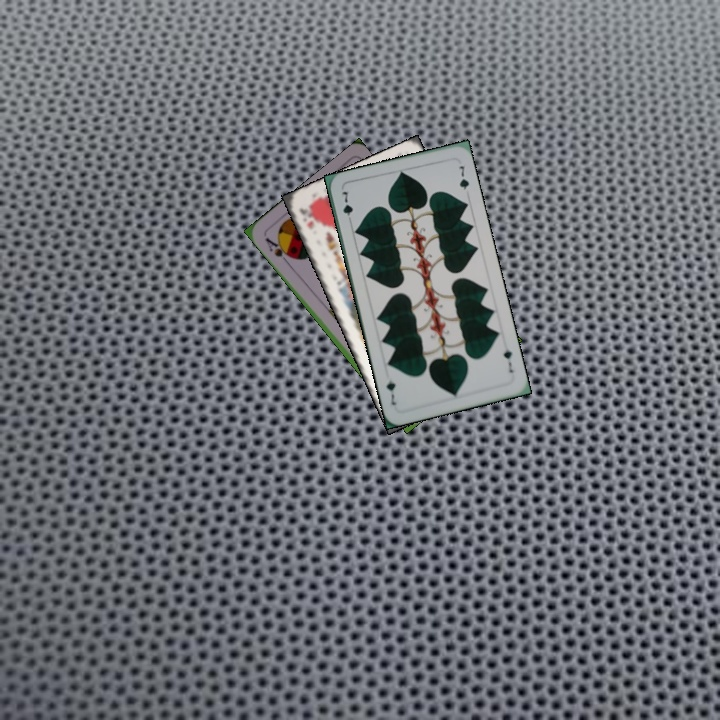G7: (338, 186, 356, 227), (499, 340, 516, 375)
HK: (295, 201, 319, 232)
SA: (261, 233, 295, 266)
